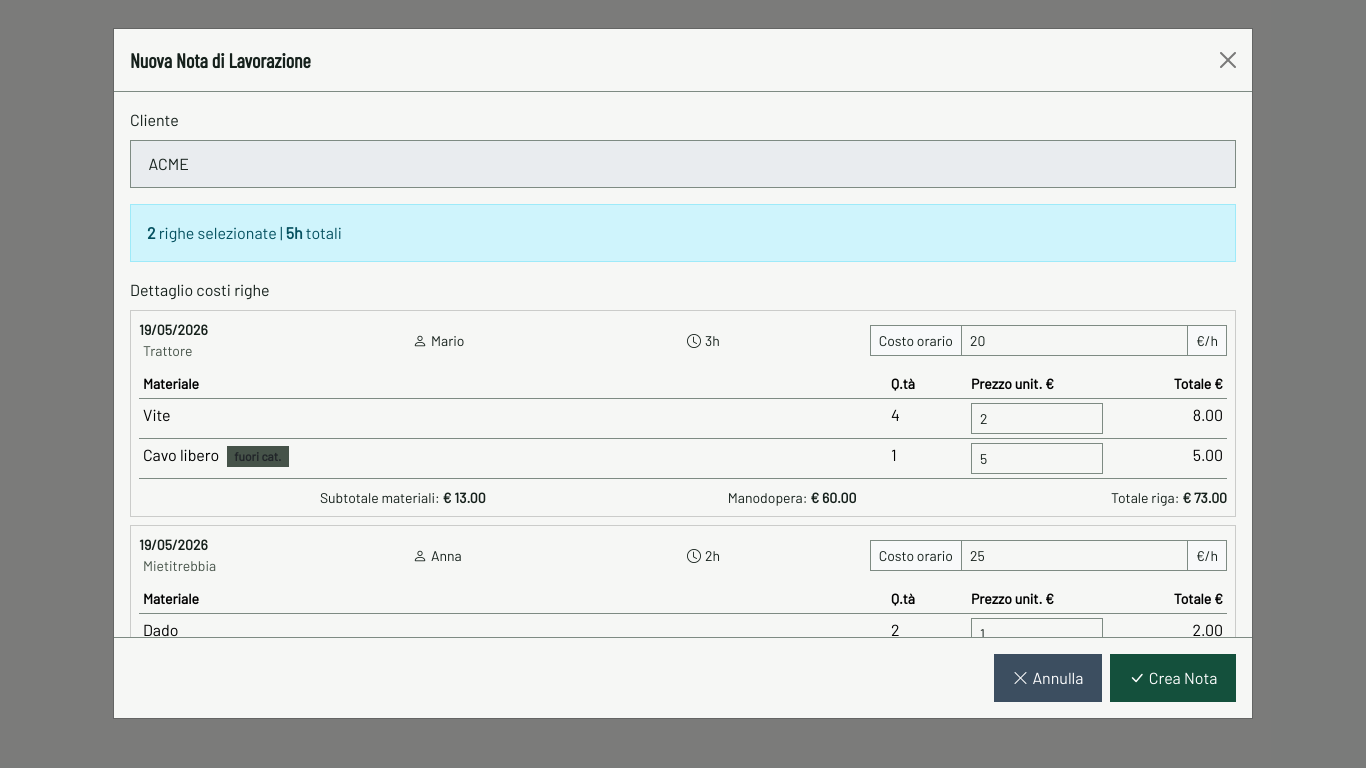
Scenario: NotaLavorazioneFormModal — costi › aggiorna il totale manodopera quando cambia il costo orario riga
The width and height of the screenshot is (1366, 768).
Replace the text in the number field with test id "riga-10-costo-orario" with "40" at (1074, 340), box 961,325 -> 1188,356
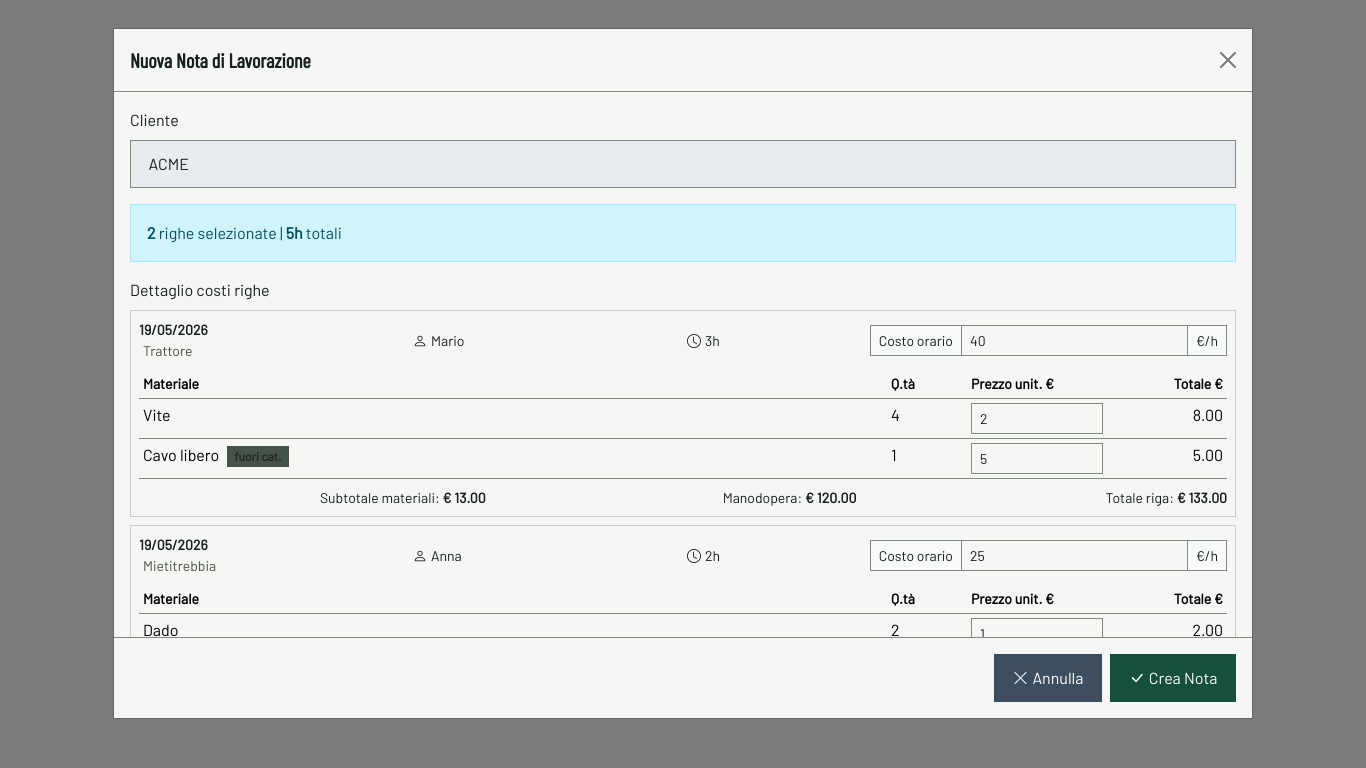
Check: the text with test id "riga-10-manodopera" shows "120.00", box 805,489 -> 856,506
